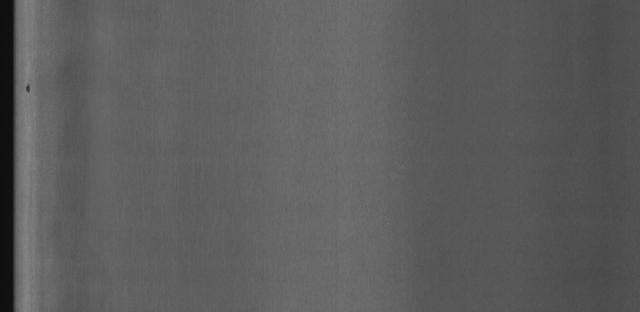inclusion: (22, 74, 43, 105)
